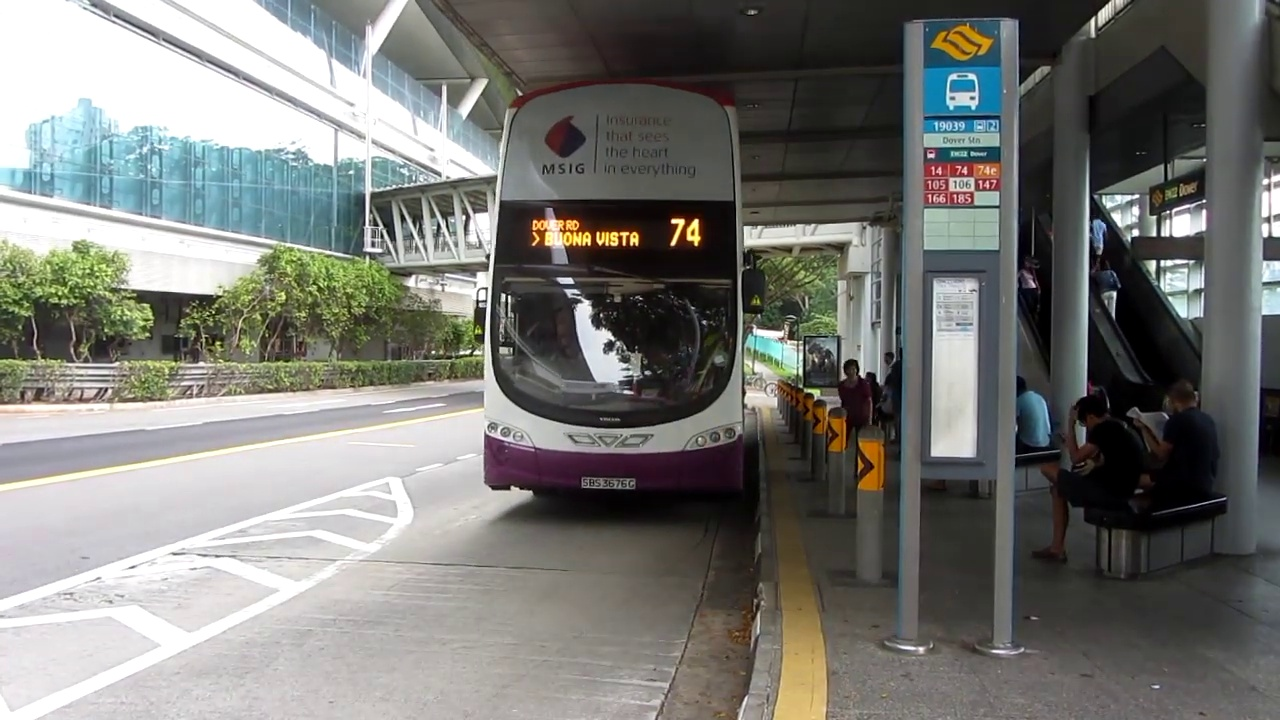bus panel: (527, 214, 706, 249)
